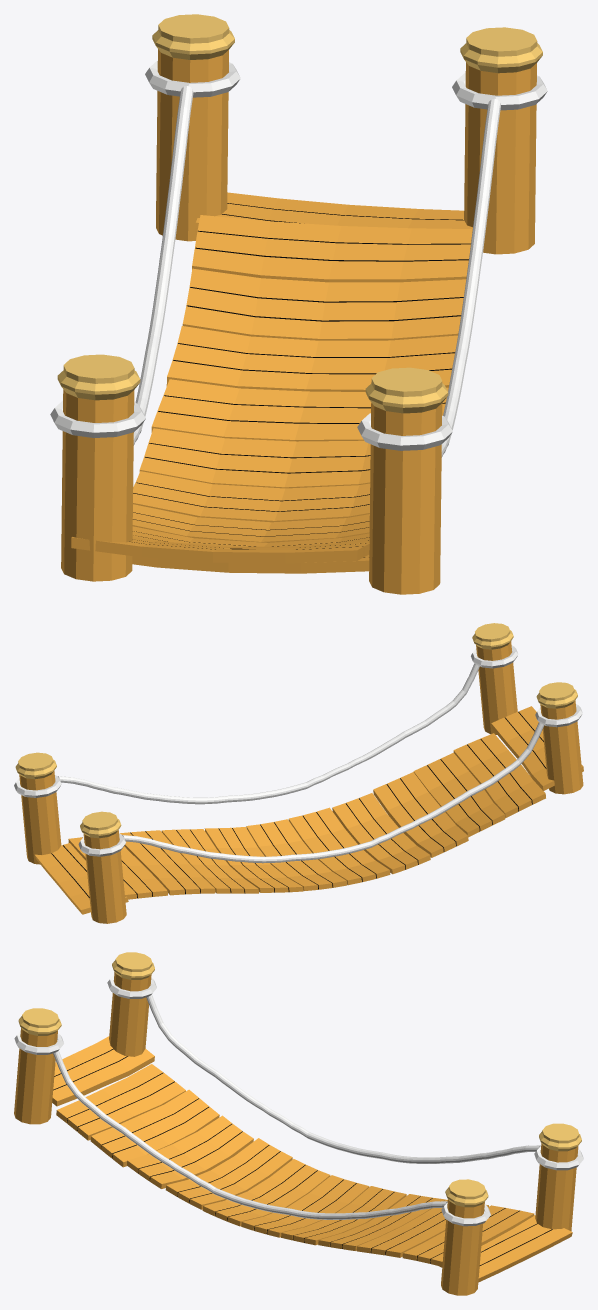
File: Bridge.fbx
The picture shows the model from 3 angles, top to bottom: view 1: azimuth 30°, elevation 25°; view 2: azimuth 150°, elevation 25°; view 3: azimuth 270°, elevation 25°; orthographic projection. The views are drawn at different scales.
Visible parts, largest first — view 1: Cylinder.039; view 2: Cylinder.039; view 3: Cylinder.039.
Part boxes in pixels (x1,y1,x2,y2): Cylinder.039: [50, 14, 547, 594]; Cylinder.039: [14, 623, 583, 923]; Cylinder.039: [14, 952, 583, 1295].
Bounding box in the file's own units: 2090 × 800 × 2458.
